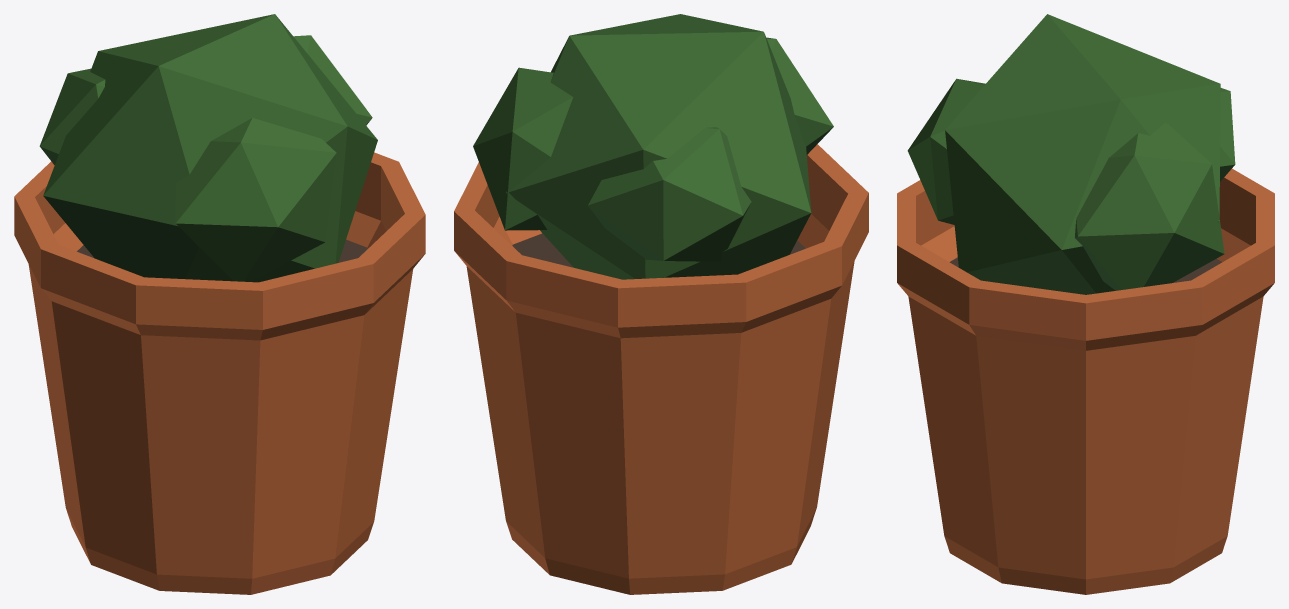
Rendered from SM_Street_Pot_Round_S_Foliage_01.gltf.
3 renders of one model, left to right at view 1: azimuth 30°, elevation 25°; view 2: azimuth 150°, elevation 25°; view 3: azimuth 270°, elevation 25°, orthographic. The views are drawn at different scales.
Visible parts, largest first — view 1: SM_Street_Pot_Round_S_Foliage_01; view 2: SM_Street_Pot_Round_S_Foliage_01; view 3: SM_Street_Pot_Round_S_Foliage_01.
Boxes of the visible parts, x1,y1,x2,y2 form: SM_Street_Pot_Round_S_Foliage_01: [14, 14, 425, 594]; SM_Street_Pot_Round_S_Foliage_01: [454, 14, 868, 594]; SM_Street_Pot_Round_S_Foliage_01: [897, 14, 1274, 594].
Size of the model in its own units: 0.24 by 0.3214 by 0.2283.
Materials: 1 (1 with a texture image).
